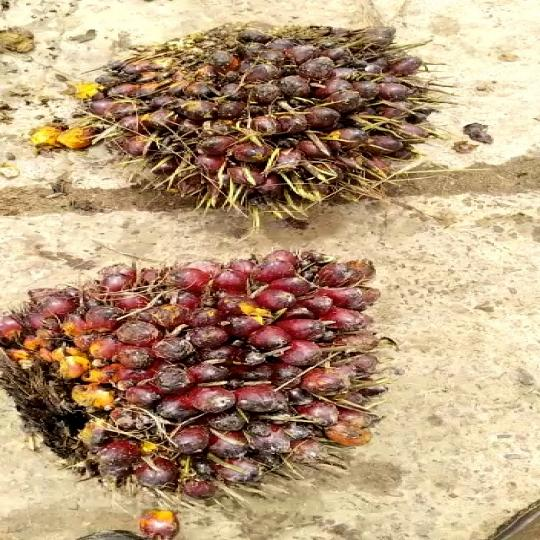kurang masak: (0, 254, 411, 505), (70, 18, 488, 232)
